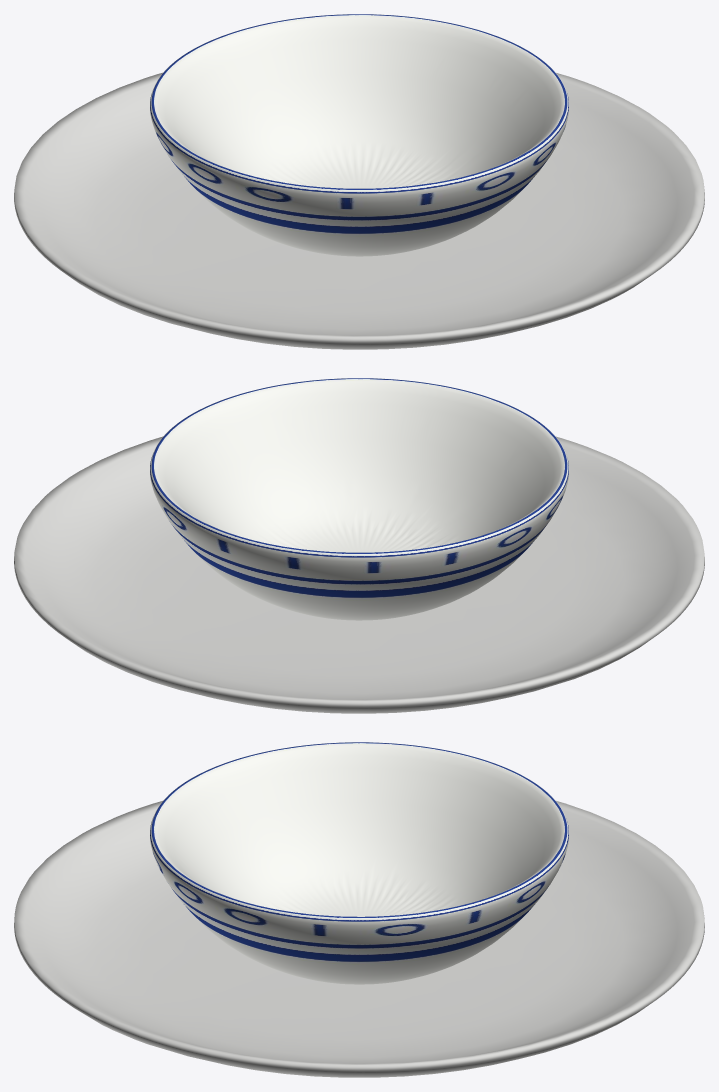
The model's file is teacup.glb.
The picture shows the model from 3 angles, top to bottom: view 1: azimuth 30°, elevation 25°; view 2: azimuth 150°, elevation 25°; view 3: azimuth 270°, elevation 25°; orthographic projection.
Visible parts, largest first — view 1: Saucer, Cup; view 2: Saucer, Cup; view 3: Saucer, Cup.
Part boxes in pixels (<box>): Saucer: <box>14,72,704,349</box>; Cup: <box>150,14,568,256</box>; Saucer: <box>14,436,704,713</box>; Cup: <box>150,378,568,620</box>; Saucer: <box>14,801,704,1077</box>; Cup: <box>150,742,568,984</box>.
Bounding box in the file's own units: 0.8753 × 0.1875 × 0.8753.
Materials: 2 (1 with a texture image).
